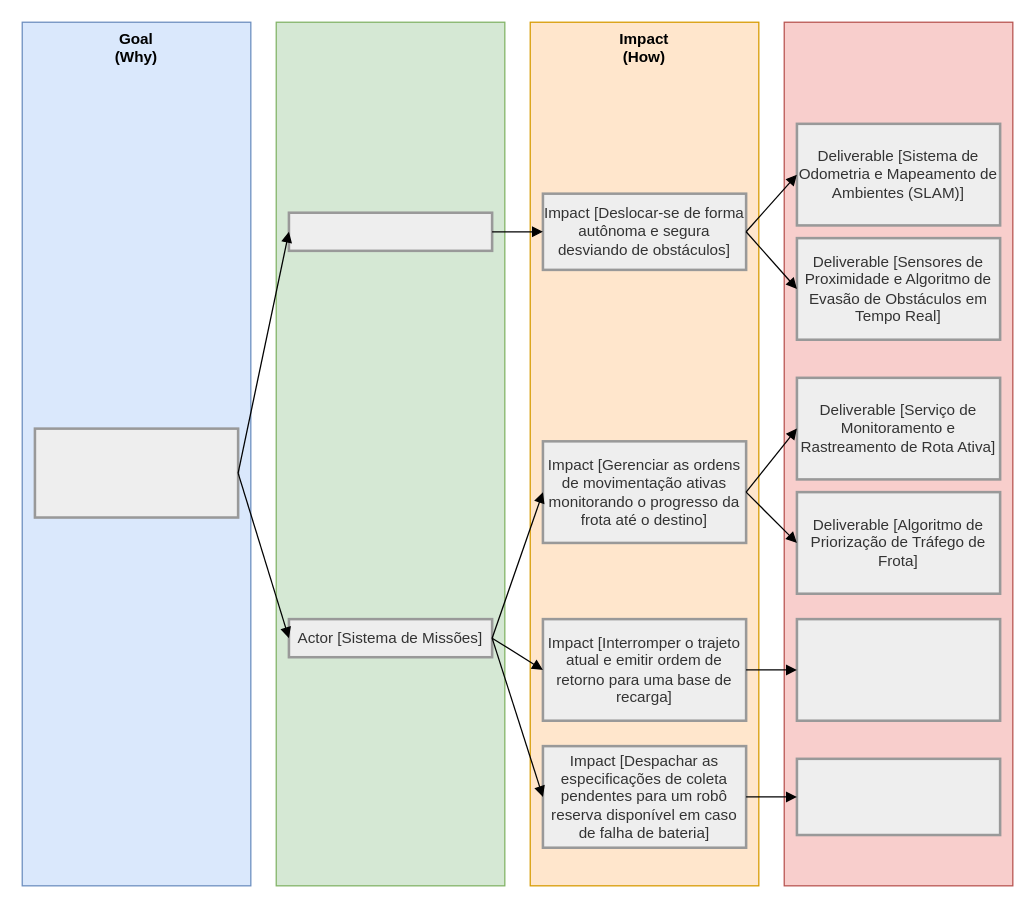
The diagram is 1035 pixels wide and 908 high, and some of its shapes have lost their labels. Each missing label, with the box of its shape:
Actor (Who): (275, 21, 505, 886)
Actor [Robô]: (287, 211, 493, 251)
Deliverable (What): (783, 21, 1013, 886)
Deliverable [API de Sincronização e Handover de Ordens de Serviço]: (795, 757, 1001, 836)
Deliverable [Roteamento de Emergência para Docas de Carga]: (795, 617, 1001, 721)
Goal Achieve [Ir até o Armazem]: (33, 427, 239, 518)
